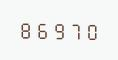eight: (18, 19, 33, 39)
nine: (50, 19, 65, 40)
seven: (66, 20, 81, 40)
six: (34, 19, 49, 39)
zero: (82, 20, 97, 40)
